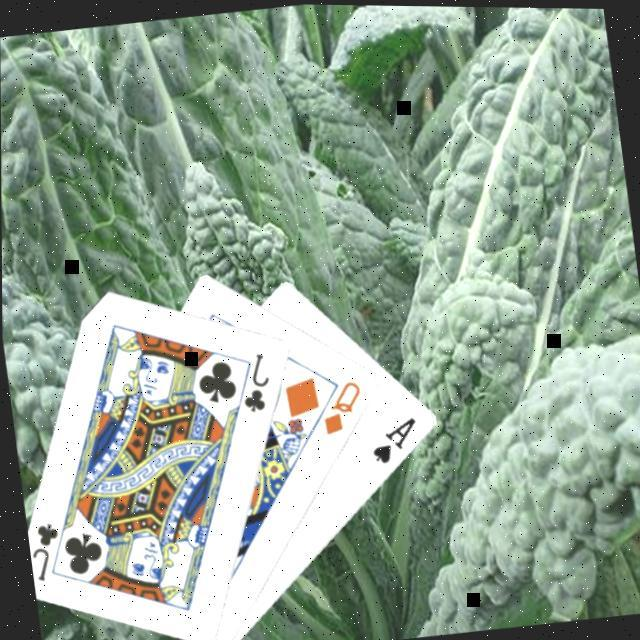AS: (366, 409, 426, 466)
JC: (25, 516, 69, 584), (235, 346, 278, 414)
QD: (316, 372, 371, 437)
